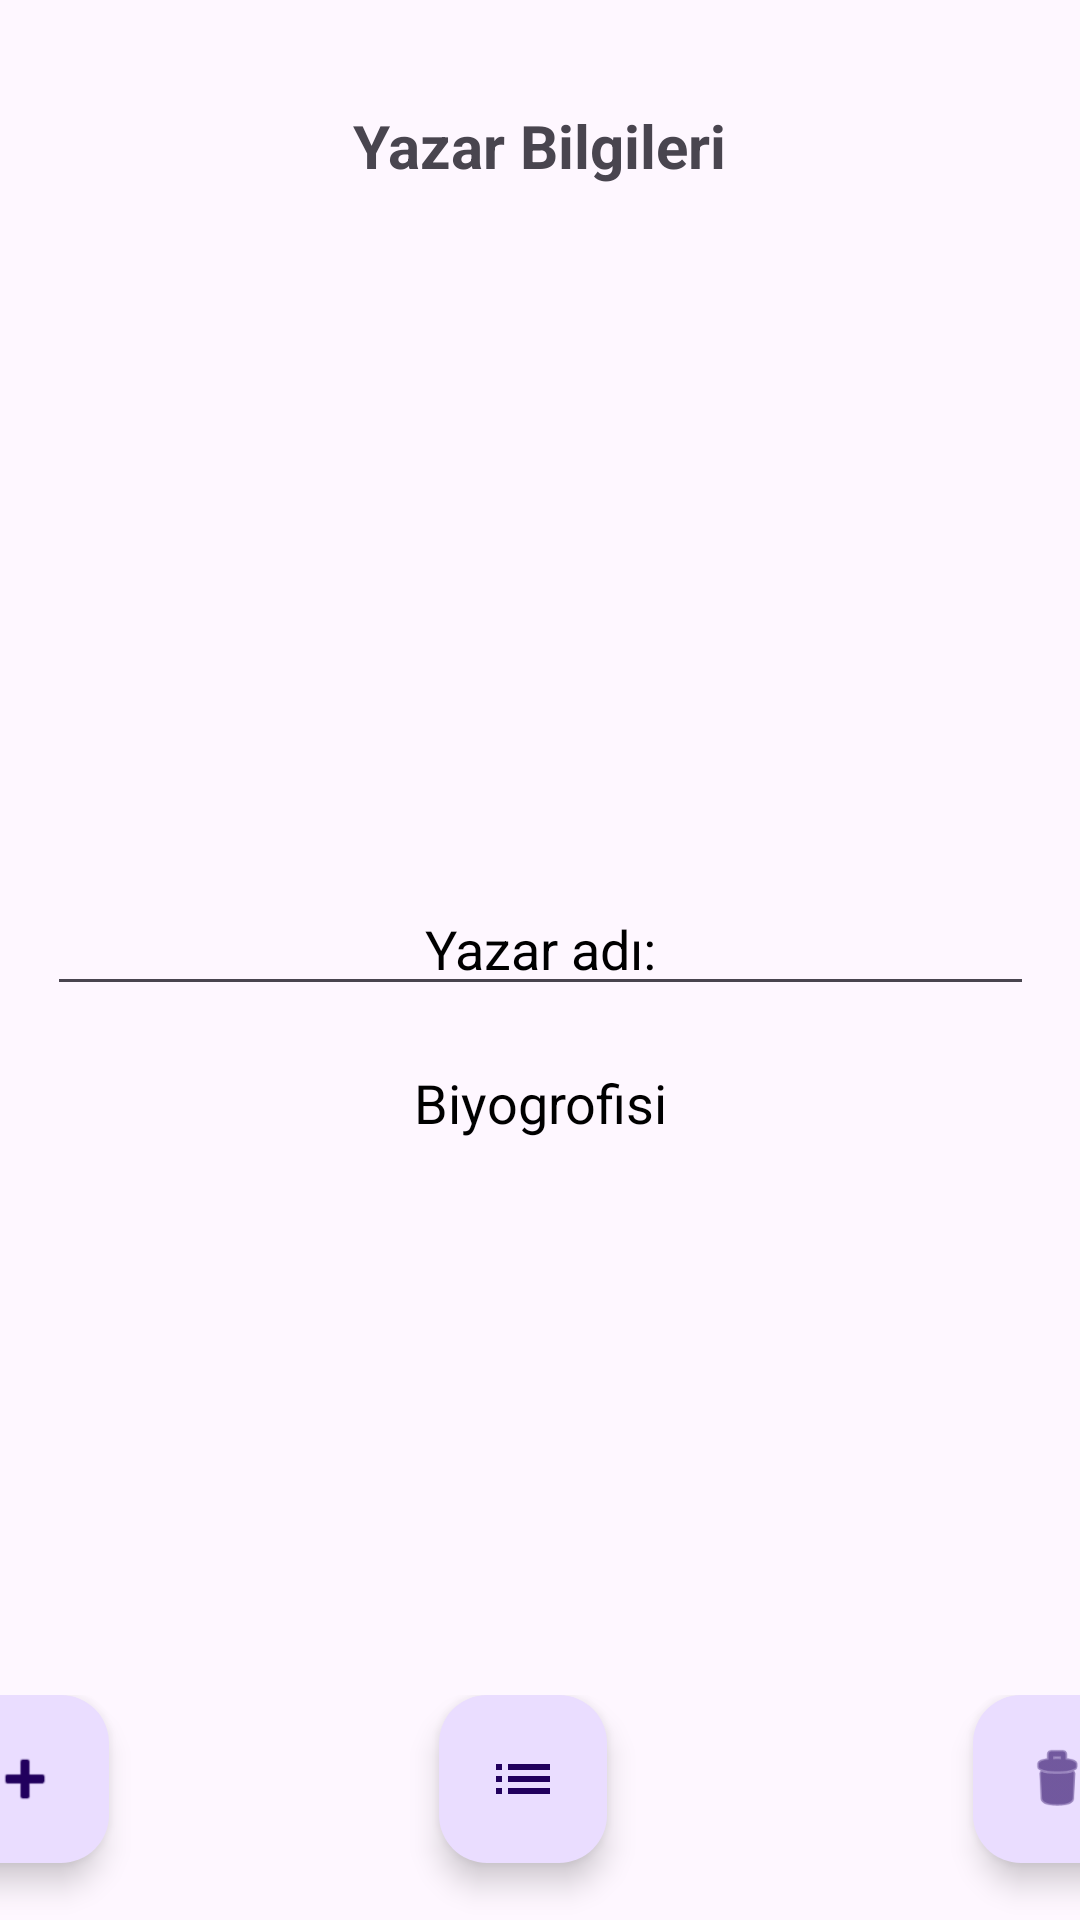

Screen size 1080w x 1920h. Icon name, then its box in pixels as [left=x1, top=y1, right=x2, bottom=y2]:
list: [left=439, top=1695, right=607, bottom=1863]
